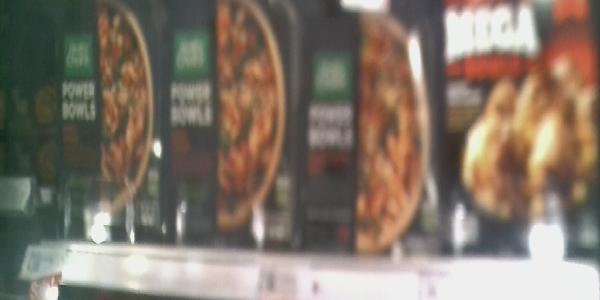pizza1: (450, 2, 600, 259), (304, 1, 449, 254), (19, 1, 164, 250), (165, 1, 301, 249)
